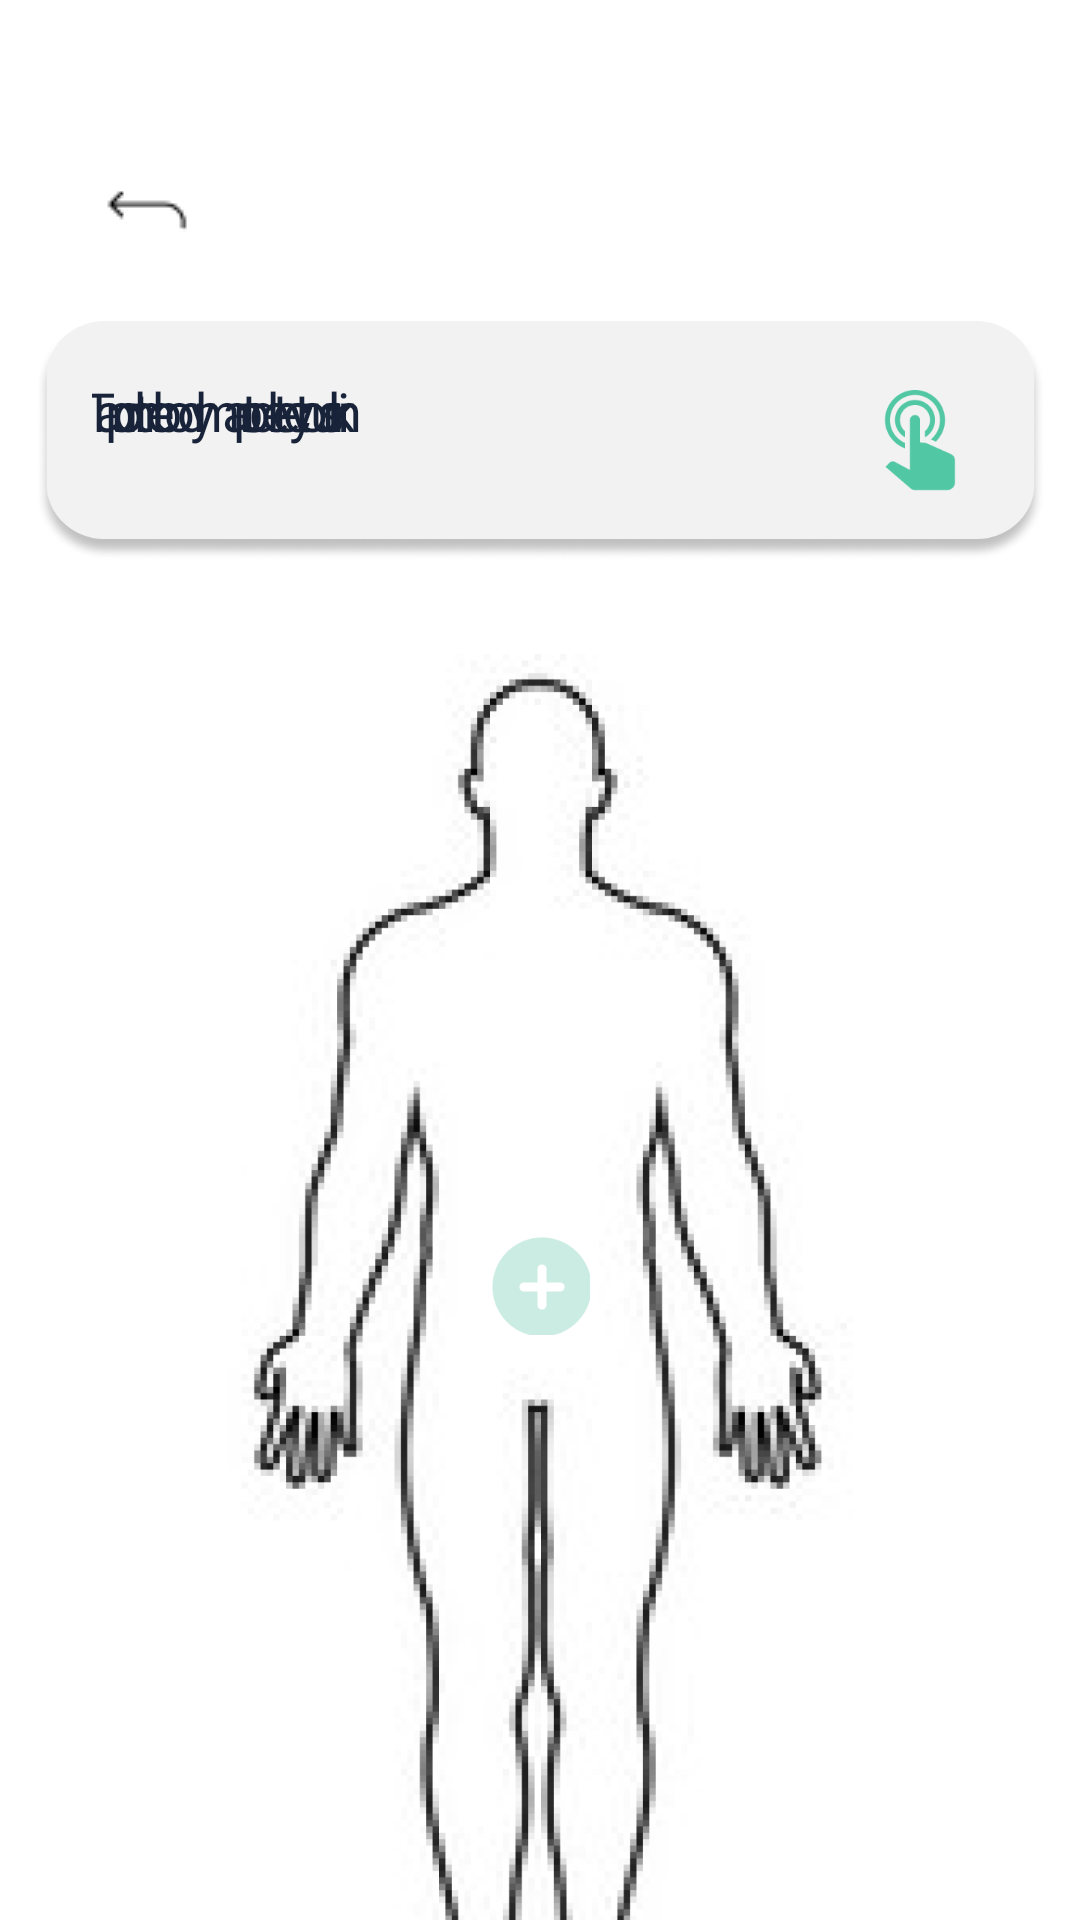

Point at icon controls on the screen. Image size 1080px×1920px, points as (x,y).
Back to home: (147,210)
